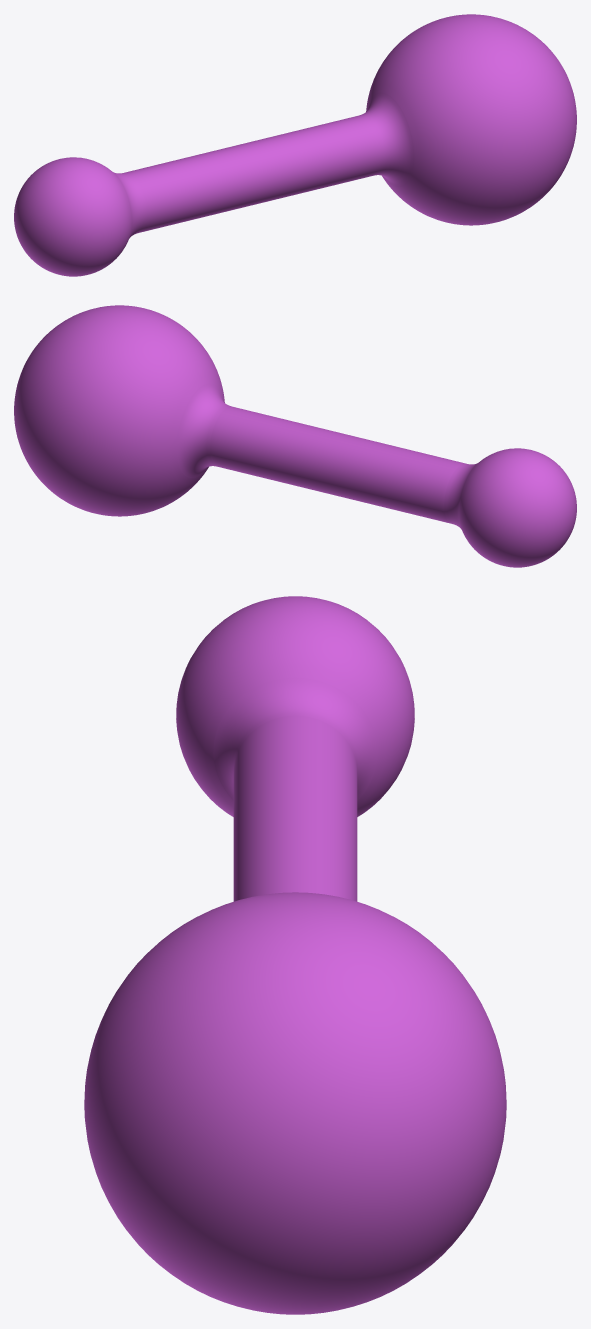
The model's file is Test Conductor.dae.
3 views of the same model, one above another, from view 1: azimuth 30°, elevation 25°; view 2: azimuth 150°, elevation 25°; view 3: azimuth 270°, elevation 25° (orthographic). The views are drawn at different scales.
Parts seen in each view (by area): view 1: 60e01452fbbbee5bec473da4; view 2: 60e01452fbbbee5bec473da4; view 3: 60e01452fbbbee5bec473da4.
Part boxes in pixels (x1=…): 60e01452fbbbee5bec473da4: x1=14, y1=14, x2=576, y2=276; 60e01452fbbbee5bec473da4: x1=14, y1=305, x2=576, y2=567; 60e01452fbbbee5bec473da4: x1=84, y1=596, x2=506, y2=1314.
Size of the model in its own units: 8.64 by 2.92 by 2.92.
